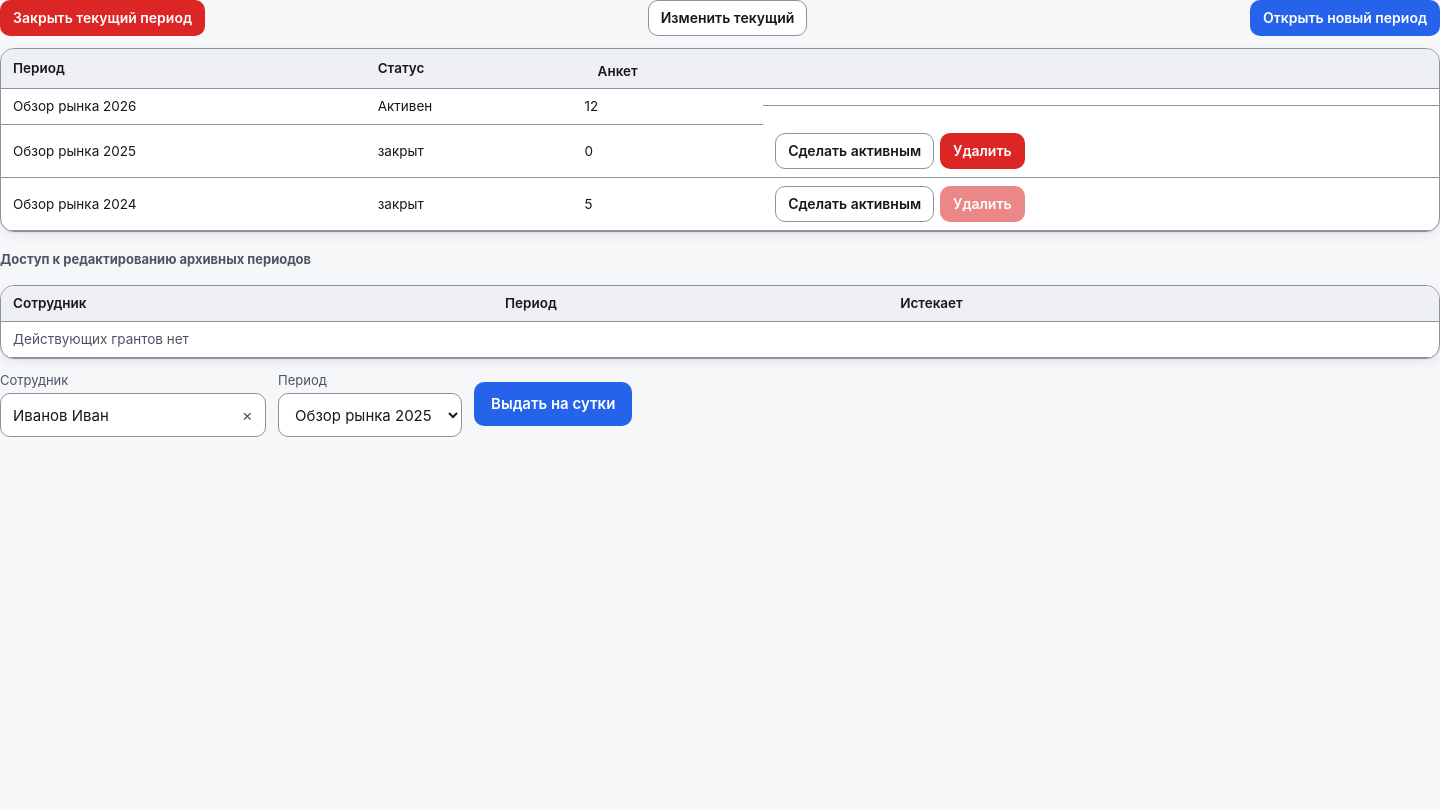
Test case: новый период показывает предупреждение о сбросе данных
Click the button "Открыть новый период" at (1345, 18), box top-left (1250, 0), bottom-right (1439, 36)
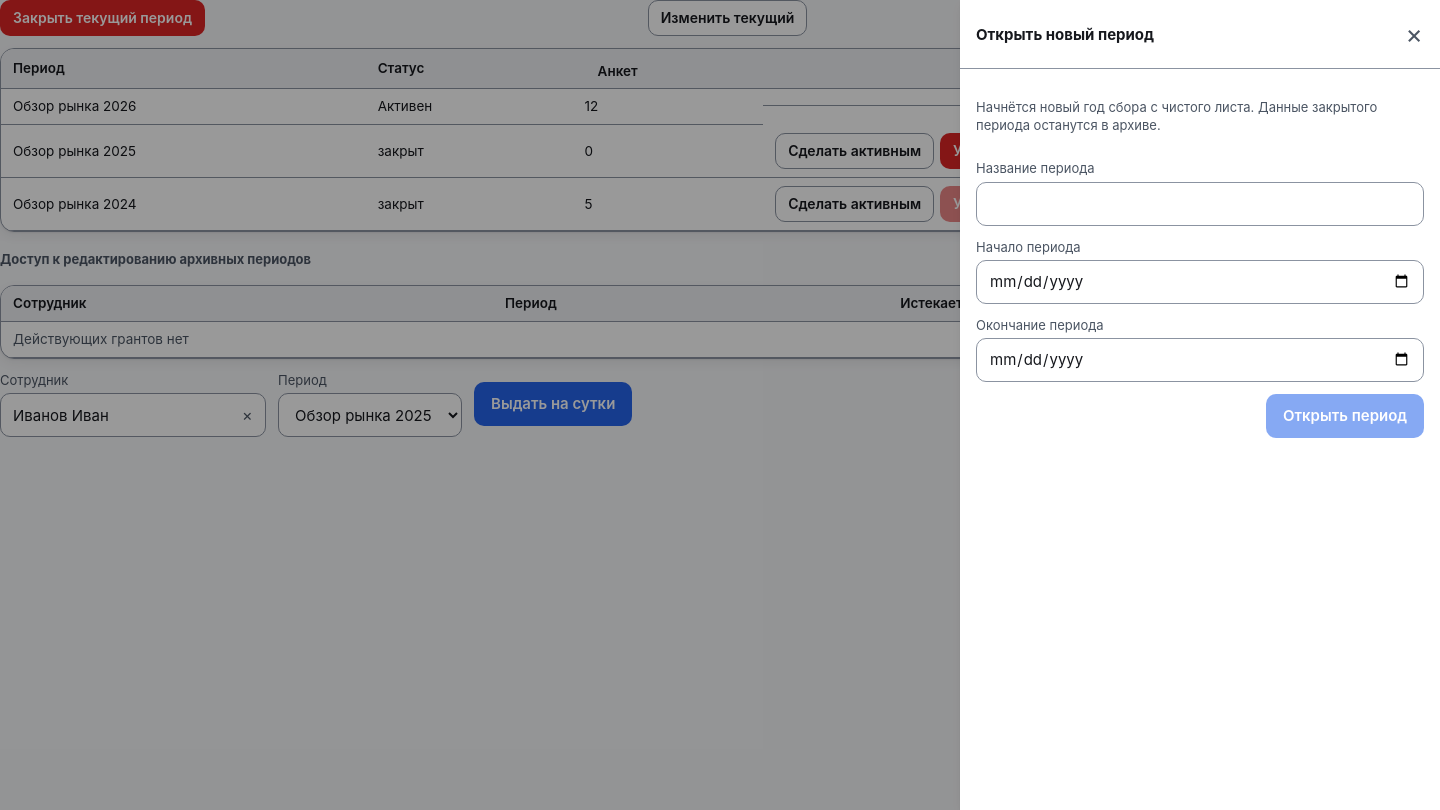
Expected: the text "Начнётся новый год сбора с чистого листа" is shown, top-left (976, 99), bottom-right (1377, 133)
